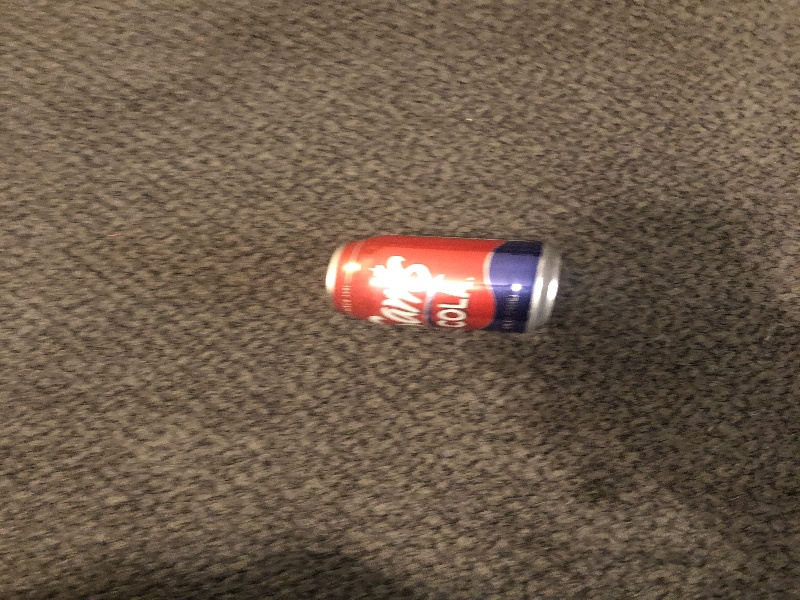metal: (319, 227, 574, 340)
